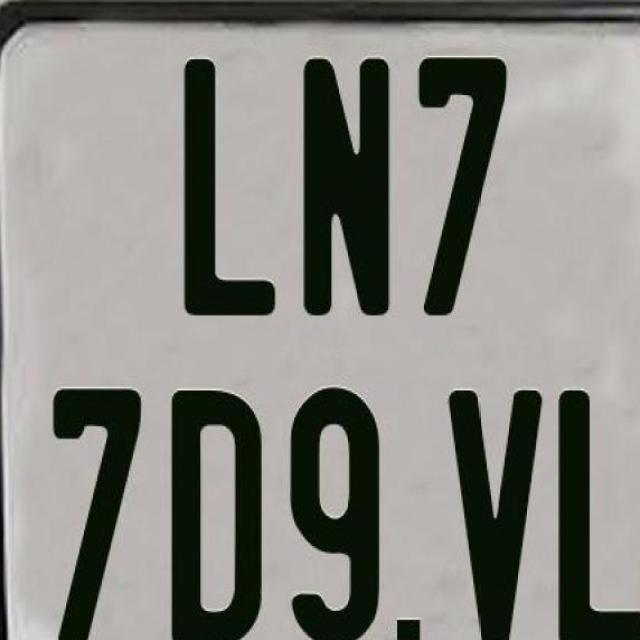license-plate: (8, 5, 640, 622)
